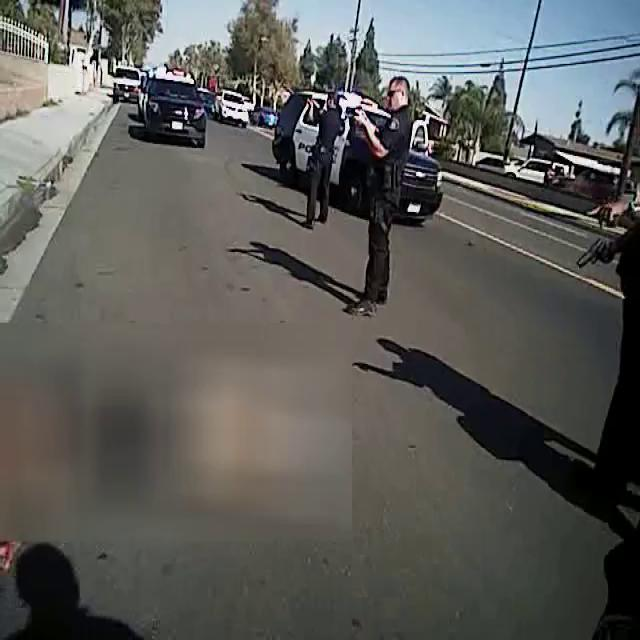gun: (567, 231, 624, 276), (340, 99, 366, 126), (302, 85, 316, 109)
